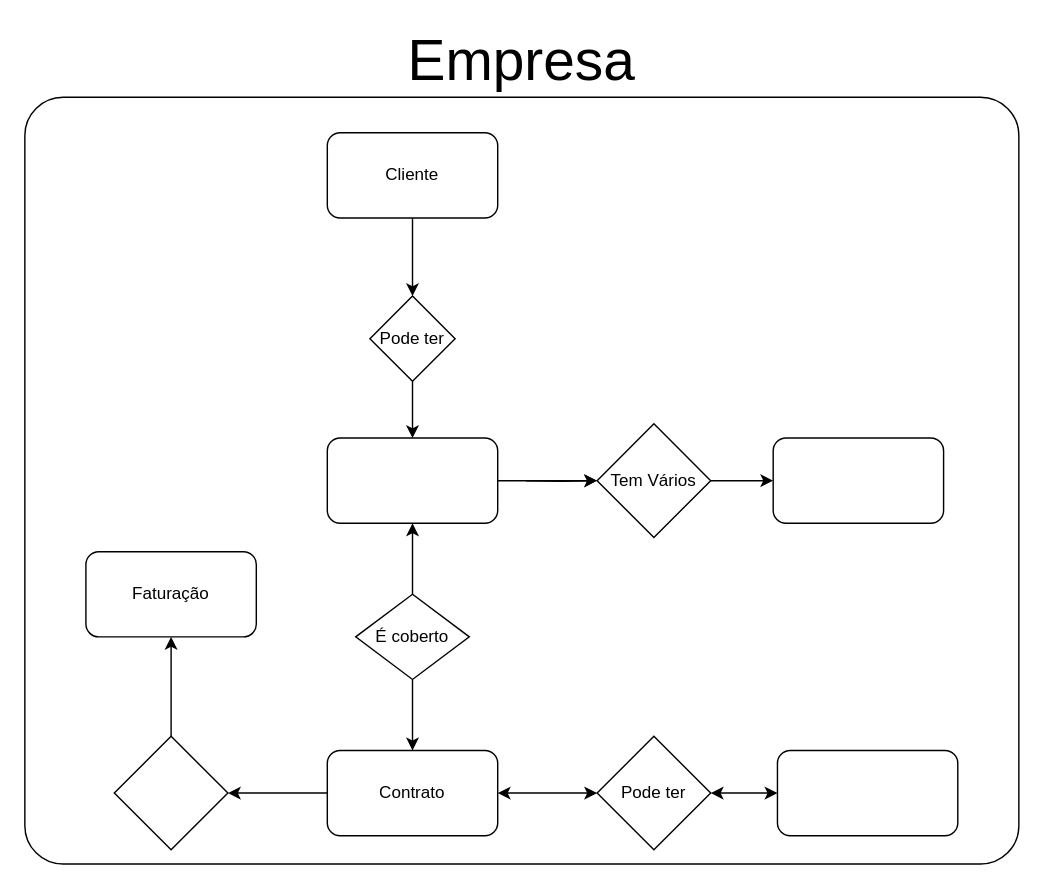
This 1044x889 diagram has some shape labels left out. Each missing label, with the centre of its shape:
Dispositivo: (x=858, y=480)
Instalações: (x=412, y=480)
Serviços: (x=867, y=792)
Tem: (x=170, y=792)
